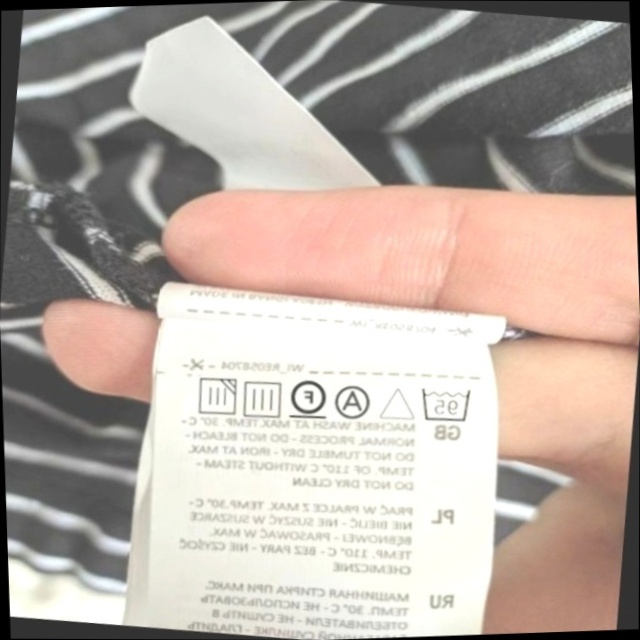95C: (414, 380, 476, 428)
bleach: (377, 379, 418, 426)
drip_dry: (237, 374, 287, 422)
drip_dry_in_shade: (189, 371, 241, 422)
dry_clean: (332, 380, 376, 423)
dry_clean_petrol_only: (285, 372, 331, 423)
